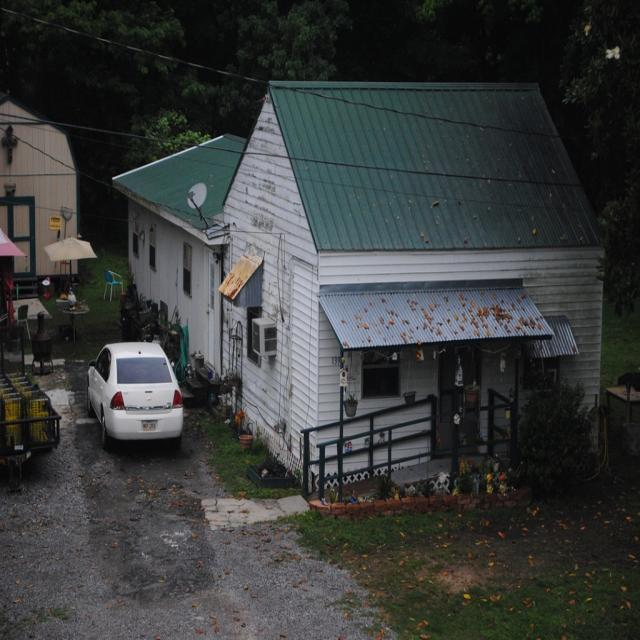car: (87, 341, 182, 443)
